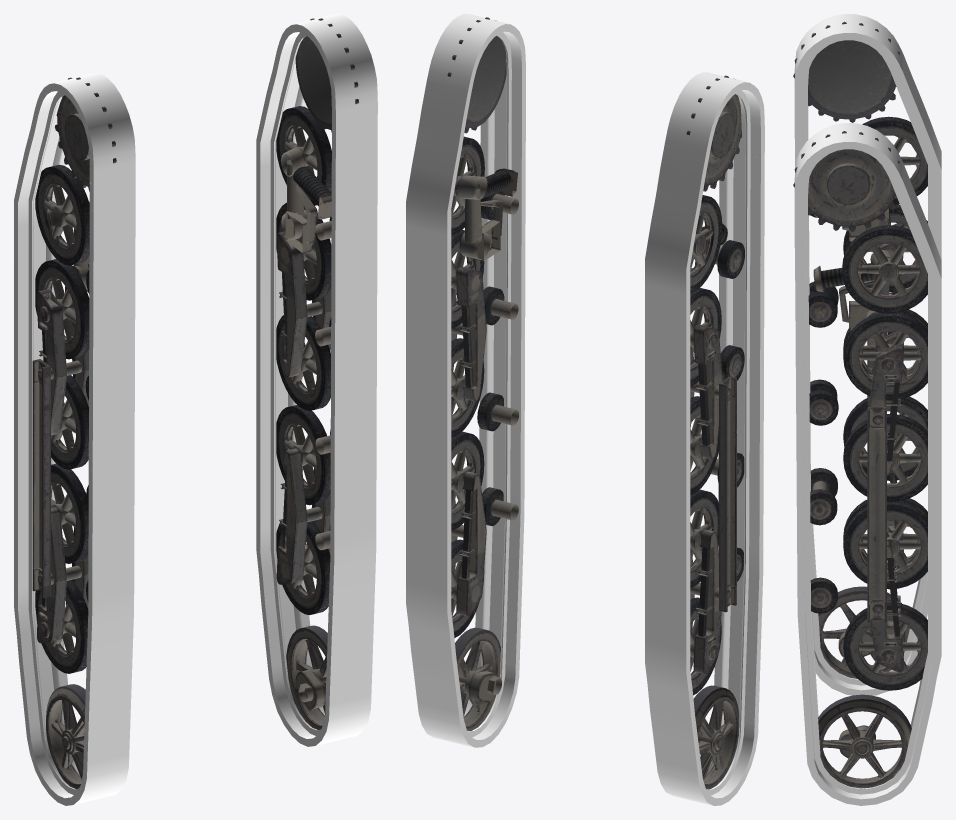
The model's file is Chassis.glb.
3 views of the same model, side by side, from view 1: azimuth 30°, elevation 25°; view 2: azimuth 150°, elevation 25°; view 3: azimuth 270°, elevation 25° (orthographic). The views are drawn at different scales.
Parts seen in each view (by area): view 1: set_0_group_0, set_1_group_0, set_2_group_0, set_3_group_0; view 2: set_1_group_0, set_0_group_0, set_3_group_0, set_2_group_0; view 3: set_3_group_0, set_0_group_0, set_2_group_0, set_1_group_0.
Boxes of the visible parts, x1,y1,x2,y2 form: set_0_group_0: (256, 14, 377, 746); set_1_group_0: (14, 73, 135, 805); set_2_group_0: (32, 77, 116, 788); set_3_group_0: (276, 18, 358, 729); set_1_group_0: (645, 72, 764, 805); set_0_group_0: (406, 14, 525, 747); set_3_group_0: (447, 17, 518, 730); set_2_group_0: (686, 75, 744, 789); set_3_group_0: (793, 131, 927, 788); set_0_group_0: (794, 123, 941, 805); set_2_group_0: (793, 21, 927, 678); set_1_group_0: (794, 14, 941, 695).
Size of the model in its own units: 1.9 by 4.26 by 0.8611.
4 materials, 2 textured.
